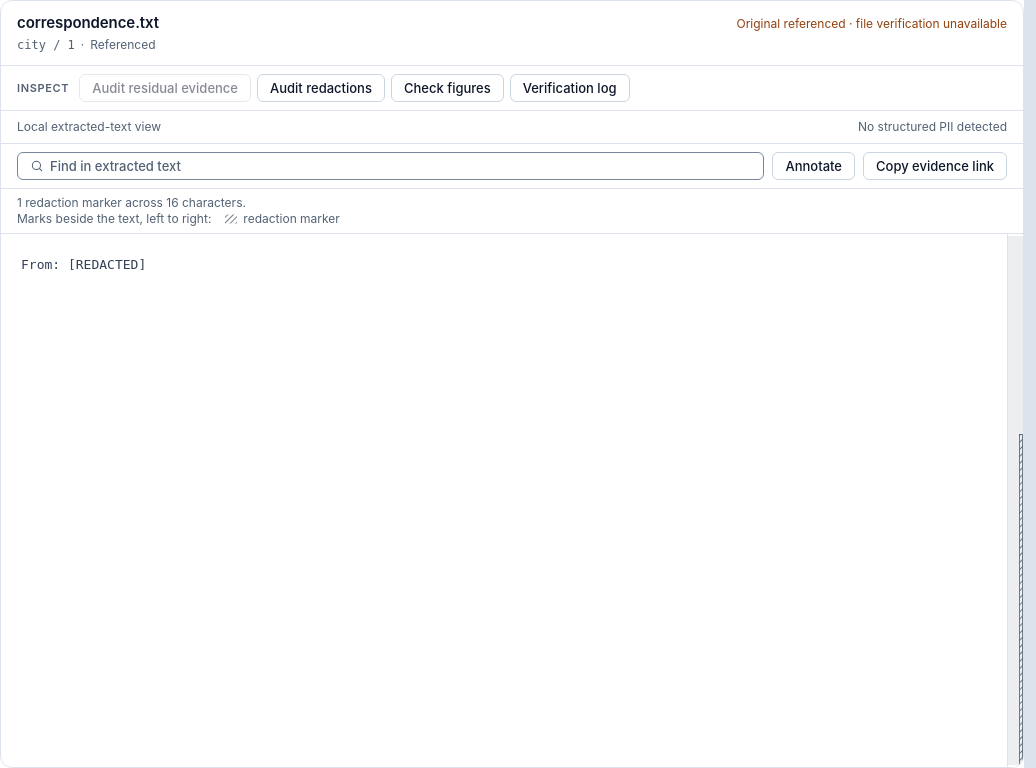
Test case: cross-record reconstruction › keeps cross-record analysis available for retained text after original cleanup
This screenshot has width=1036, height=768.
Click the button "Audit redactions" at [321, 88], box left=257, top=74, right=385, bottom=102
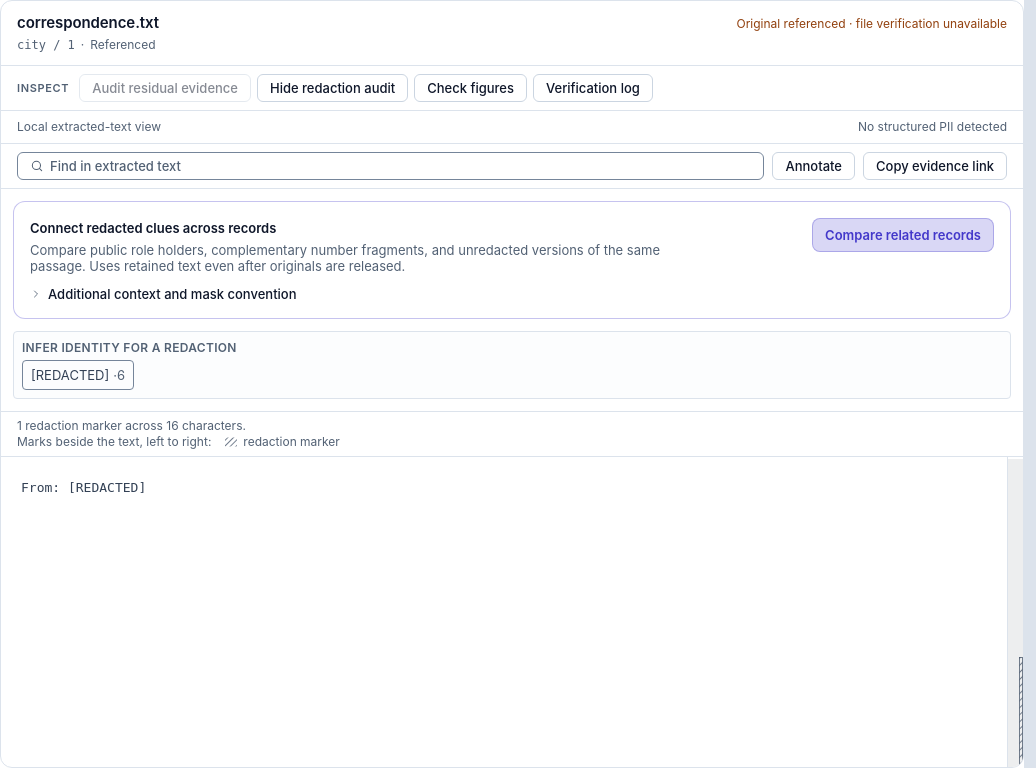
Click the button "Compare related records" at [903, 235], box left=812, top=218, right=994, bottom=252
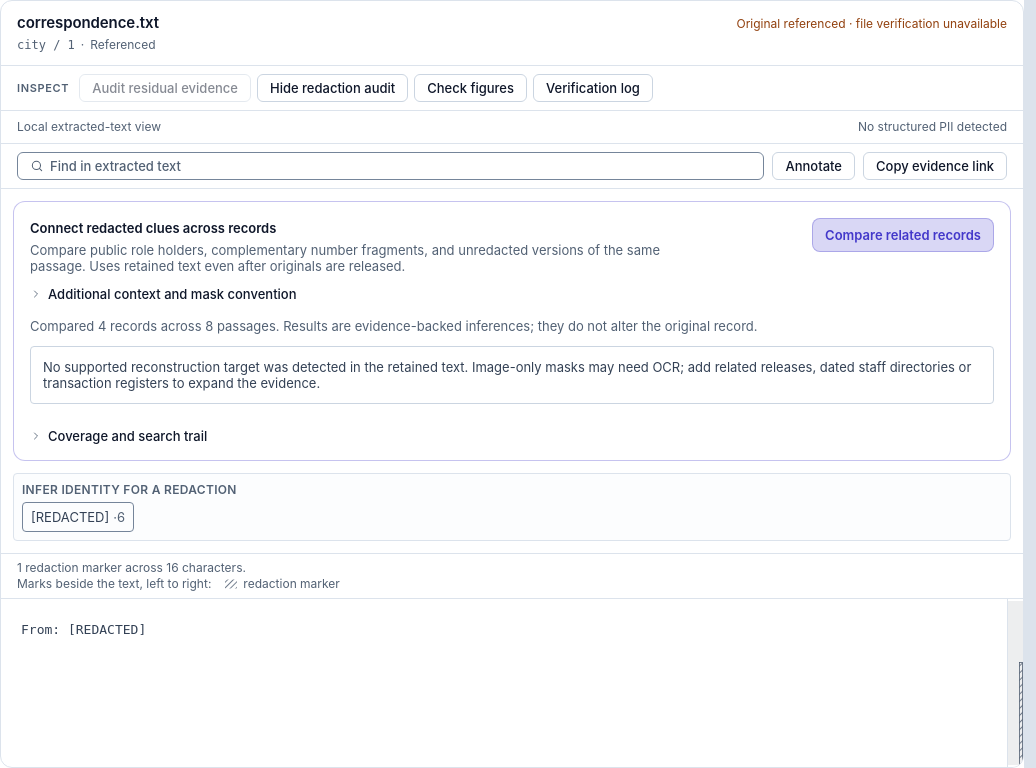
Result: the text "Compared 4 records" is shown at left=30, top=318, right=758, bottom=334
